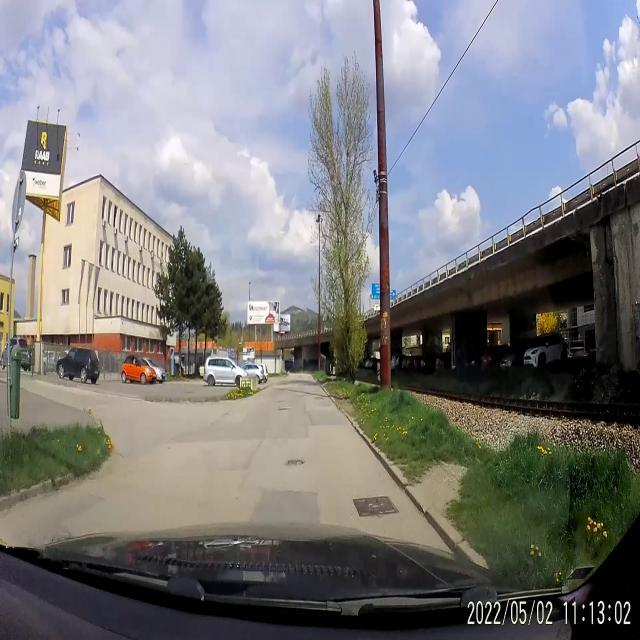Manhole: (354, 481, 400, 524)
Pothole: (278, 455, 306, 477), (274, 394, 296, 420)
